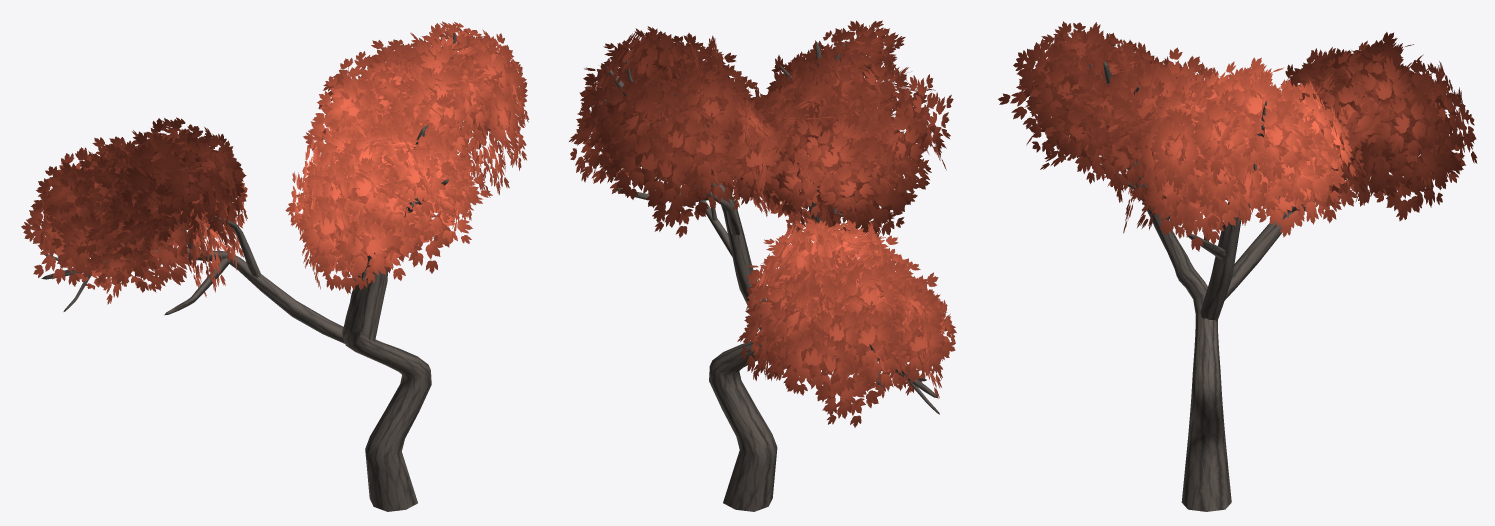
Rendered from q_maple_2.glb.
3 views of the same model, side by side, from view 1: azimuth 30°, elevation 25°; view 2: azimuth 150°, elevation 25°; view 3: azimuth 270°, elevation 25° (orthographic). The views are drawn at different scales.
Visible parts, largest first — view 1: MapleTree_2; view 2: MapleTree_2; view 3: MapleTree_2.
Boxes of the visible parts, box(x1,y1,x2,y2) form: MapleTree_2: box(21, 21, 529, 511); MapleTree_2: box(569, 20, 956, 511); MapleTree_2: box(998, 21, 1477, 511).
Size of the model in its own units: 9.98 by 10 by 9.3.
2 materials, 2 textured.
